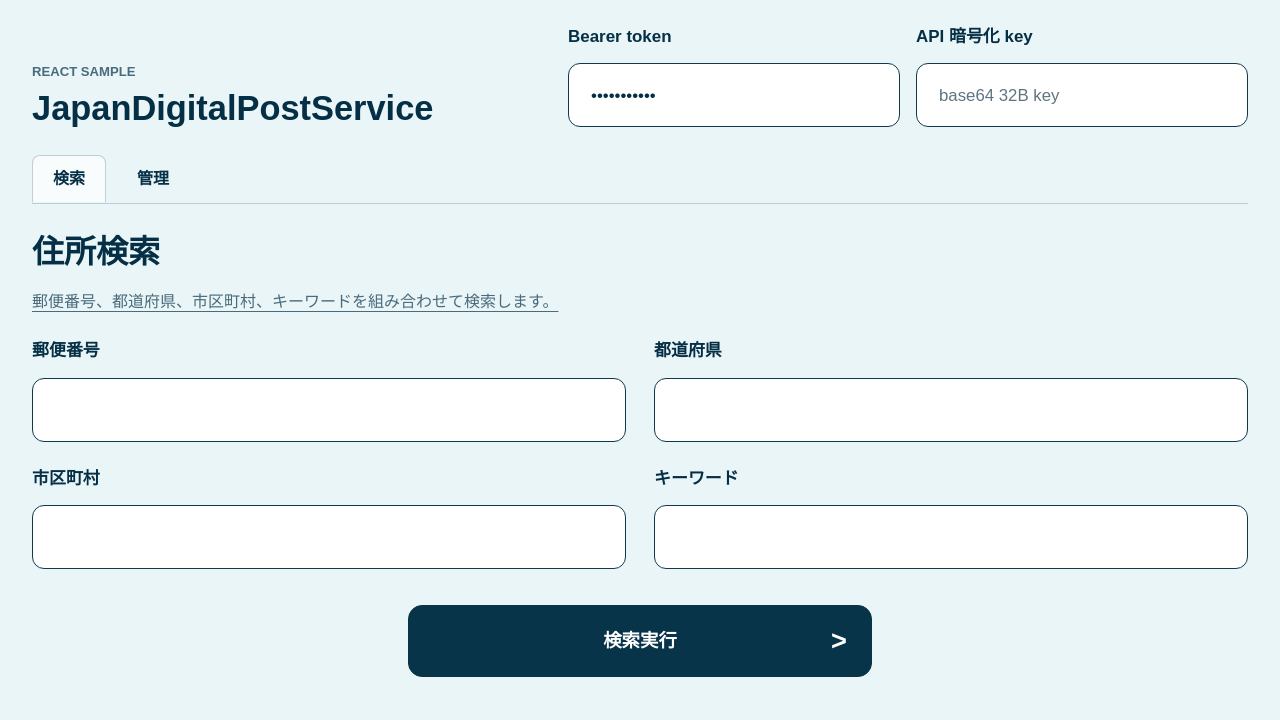
it: App › loads persisted sync run history when the admin page opens
Click the button "管理" at {"x": 153, "y": 179}, box [116,155,190,203]
(page scrolled)
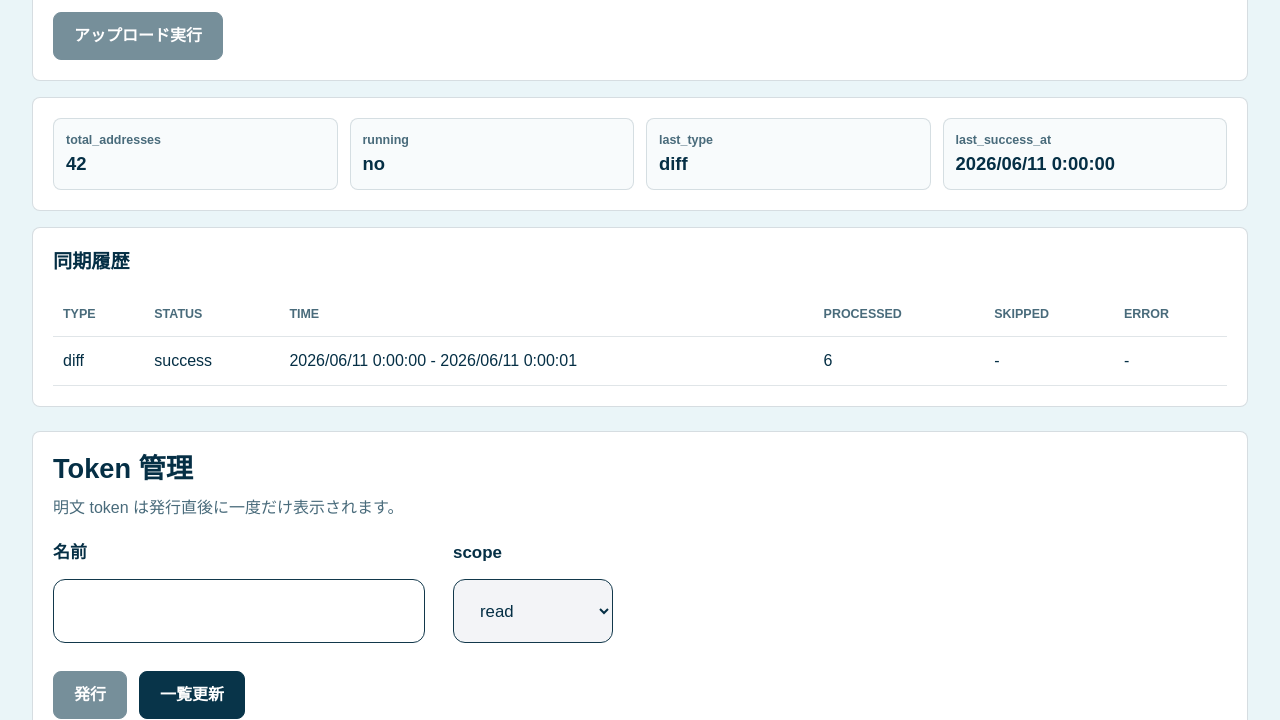
Expected: the text "total_addresses" is shown, [66,133,161,147]
Expected: the text "diff" is shown, [659,152,688,174]
Expected: the text "success" is shown, [144,336,279,385]
